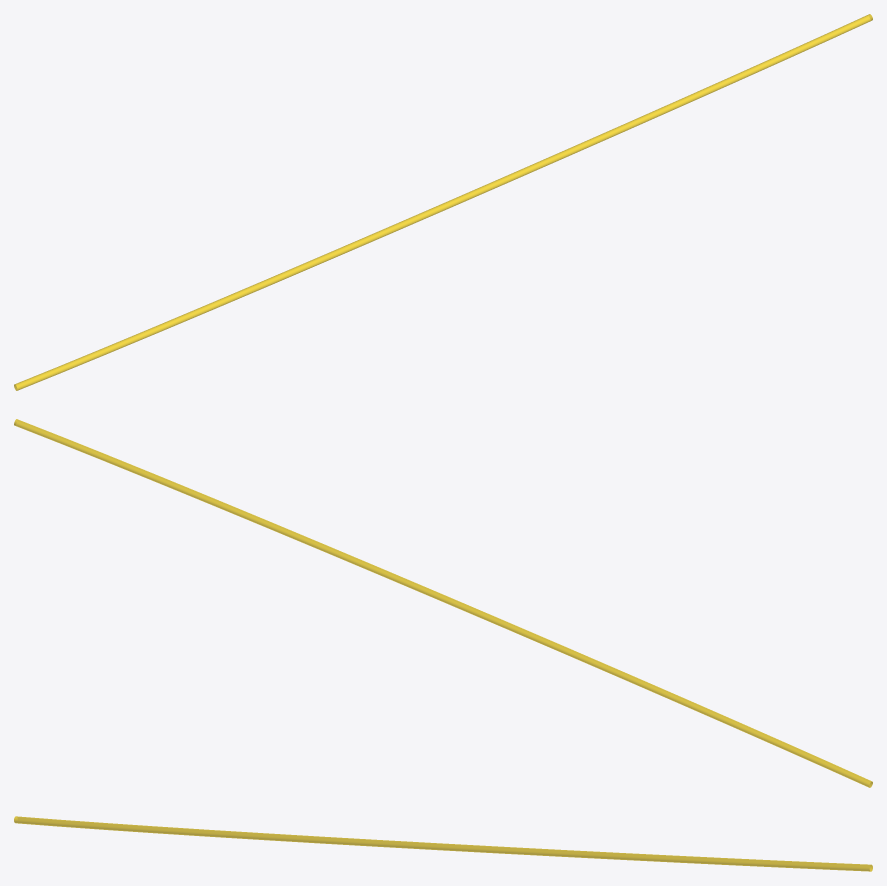
File: Event_419990632_track_35.fbx
3 views of the same model, one above another, from view 1: azimuth 30°, elevation 25°; view 2: azimuth 150°, elevation 25°; view 3: azimuth 330°, elevation 25° (orthographic).
Visible parts, largest first — view 1: Model; view 2: Model; view 3: Model.
Part boxes in pixels (box(x1,y1,x2,y2)): Model: box(14, 14, 872, 390); Model: box(14, 419, 872, 787); Model: box(14, 816, 872, 871).
Bounding box in the file's own units: 5.62 × 1.03 × 0.1101.
